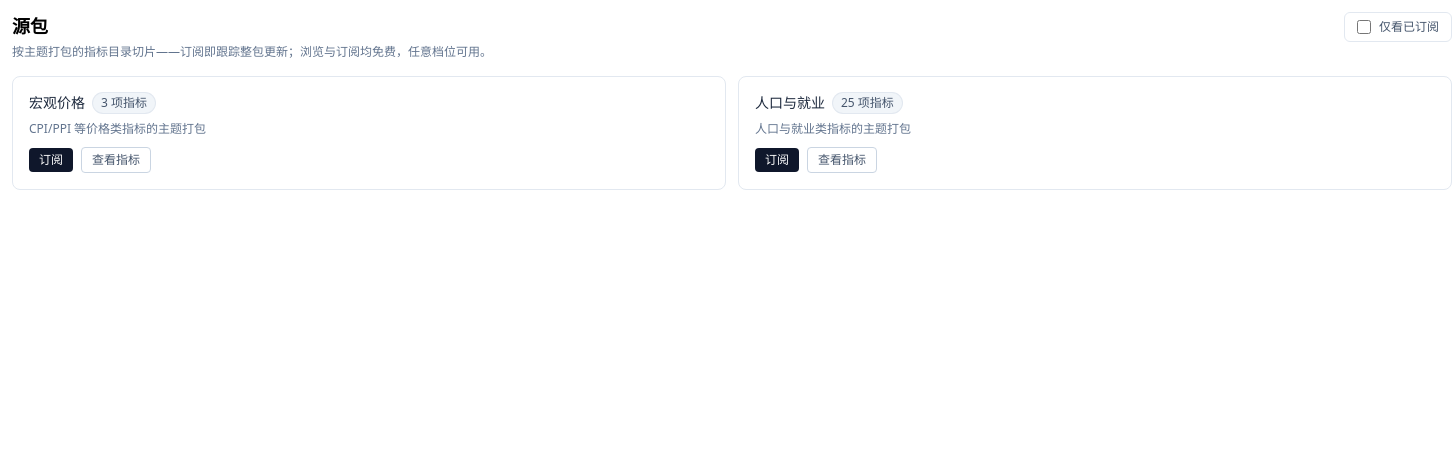
PacksPage（源包 · 卡片墙 + 订阅） › 未登录态：公开浏览不受影响（无 Authorization 也能读），订阅引导登录
Expected: the number of list items with test id "pack-card" is 2, left=12, top=76, right=726, bottom=190; left=738, top=76, right=1451, bottom=190
Click the button with test id "pack-toggle-subscribe" below "3 项指标" at (51, 160), box left=29, top=148, right=73, bottom=172
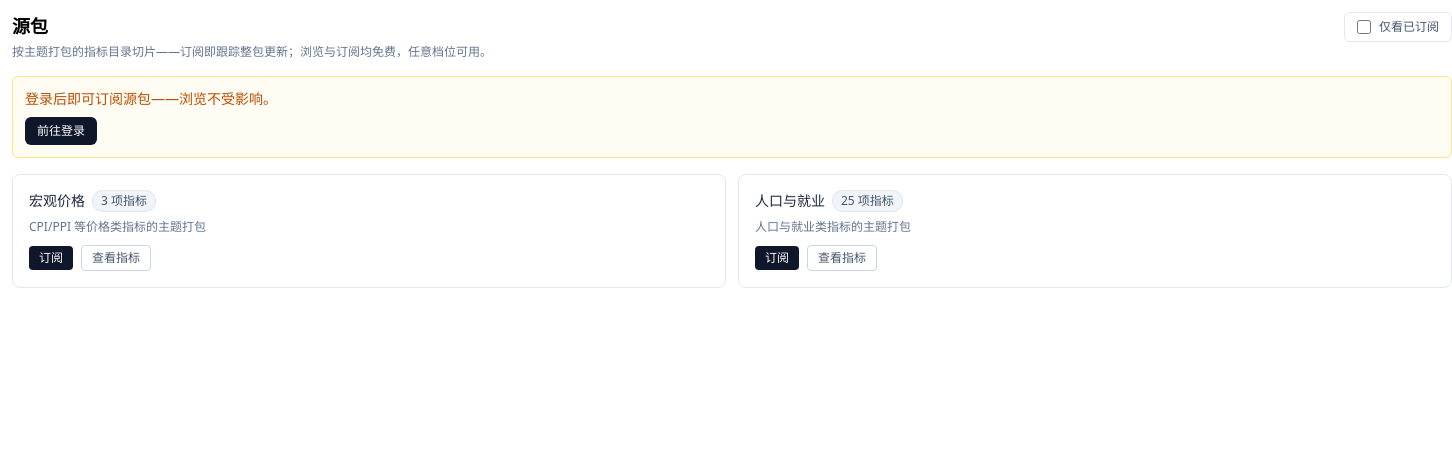
Expected: the element with test id "packs-login-hint" is shown, left=12, top=76, right=1451, bottom=158
Click the button with test id "pack-expand" showing "宏观价格" at (57, 201), box left=29, top=191, right=85, bottom=211
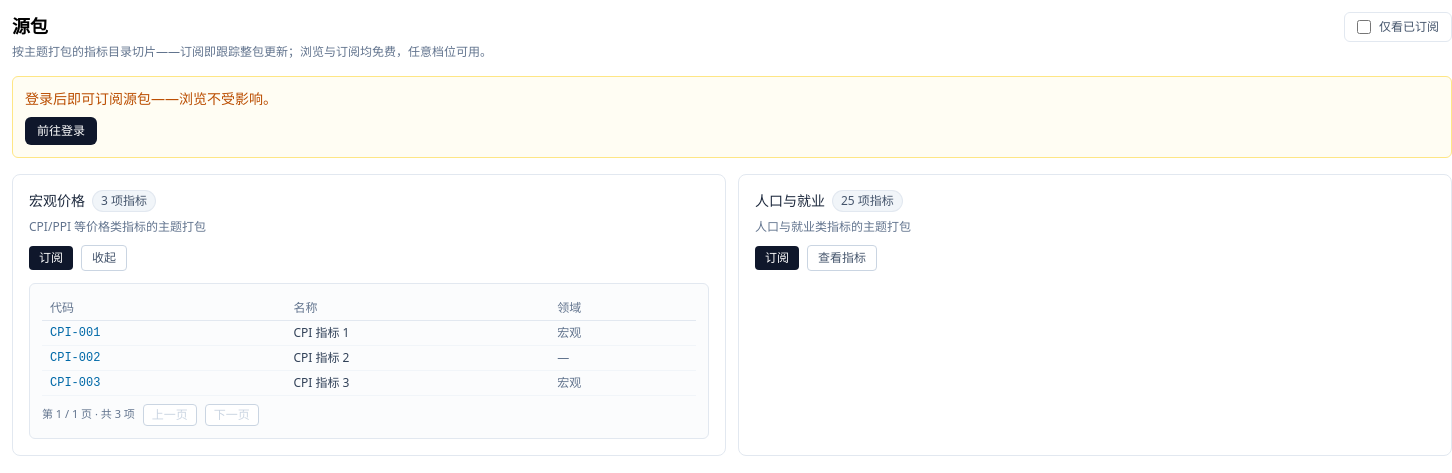
Expected: the element with test id "pack-detail" is shown, left=29, top=282, right=709, bottom=438
